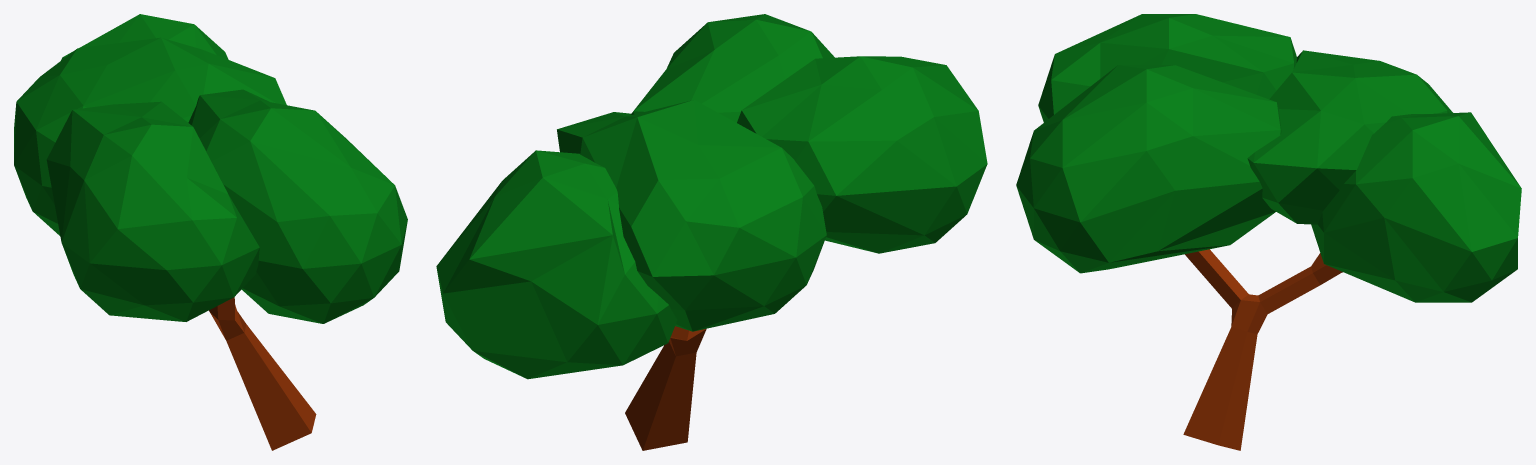
The model's file is dallı ağaç.fbx.
The picture shows the model from 3 angles, left to right: view 1: azimuth 30°, elevation 25°; view 2: azimuth 150°, elevation 25°; view 3: azimuth 270°, elevation 25°; orthographic projection. The views are drawn at different scales.
Visible parts, largest first — view 1: İkosfer.002, Cube; view 2: İkosfer.002, Cube; view 3: İkosfer.002, Cube.
Boxes of the visible parts, bbox=[...] form: İkosfer.002: bbox=[14, 14, 407, 323]; Cube: bbox=[209, 297, 316, 450]; İkosfer.002: bbox=[436, 14, 987, 379]; Cube: bbox=[625, 326, 706, 450]; İkosfer.002: bbox=[1016, 14, 1521, 302]; Cube: bbox=[1183, 249, 1342, 450].
Bounding box in the file's own units: 281 × 314 × 402.
